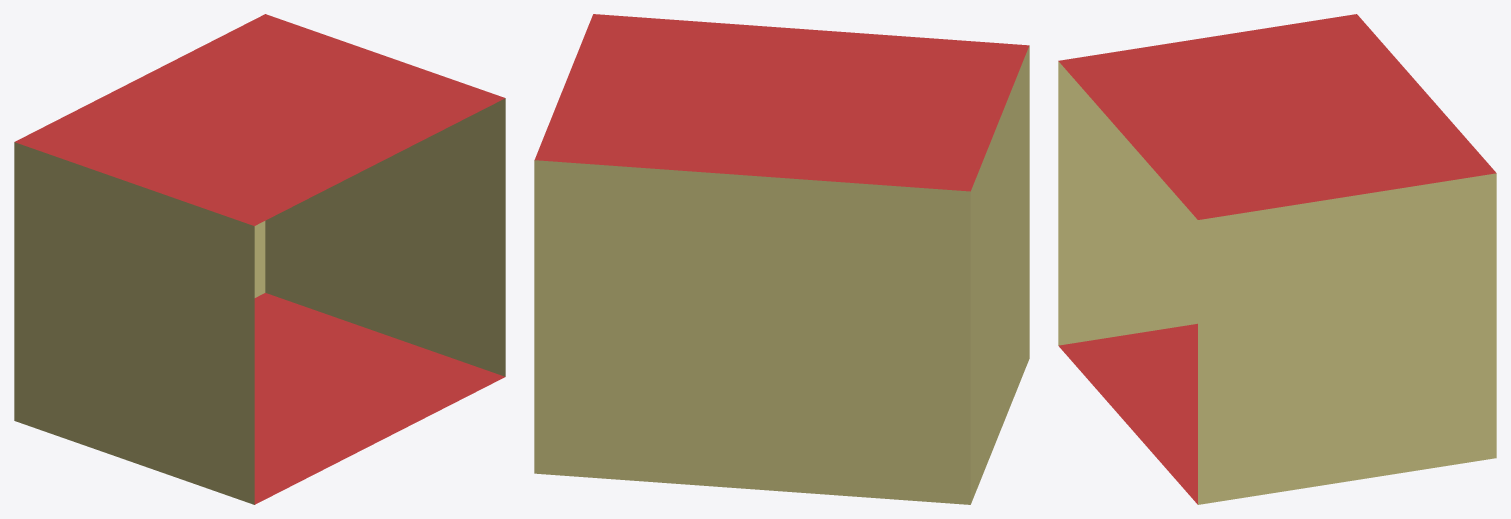
3 views of the same model, side by side, from view 1: azimuth 30°, elevation 25°; view 2: azimuth 150°, elevation 25°; view 3: azimuth 270°, elevation 25° (orthographic). The views are drawn at different scales.
Bounding box in the file's own units: 9.26 × 8.33 × 5.97.
